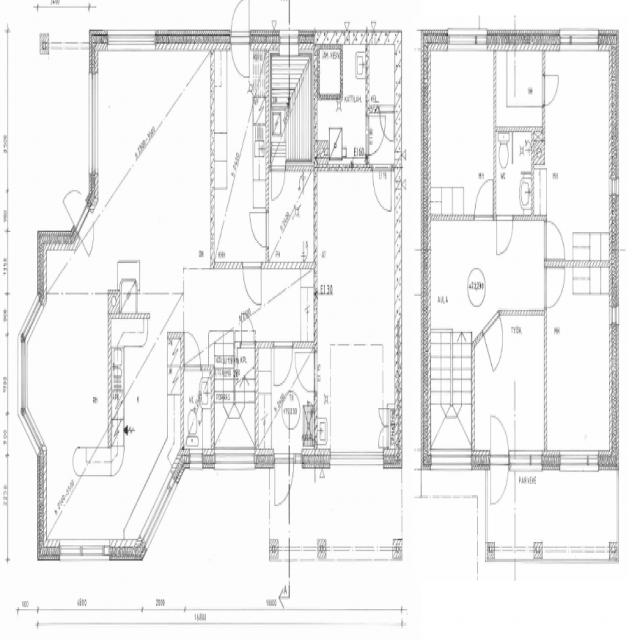door: (62, 174, 92, 238), (74, 200, 104, 264), (482, 310, 509, 370), (230, 29, 250, 92), (274, 449, 294, 509), (490, 450, 509, 510), (490, 410, 509, 469), (230, 0, 250, 51), (273, 340, 293, 390), (294, 352, 317, 393), (365, 116, 388, 156), (243, 262, 262, 309), (373, 164, 391, 212), (474, 177, 492, 222), (544, 269, 564, 306), (544, 222, 564, 259), (249, 212, 269, 247), (497, 215, 513, 257), (184, 331, 200, 372), (379, 105, 394, 143), (271, 164, 285, 201), (542, 74, 559, 104), (241, 313, 254, 348), (376, 426, 389, 448), (378, 409, 389, 426)
